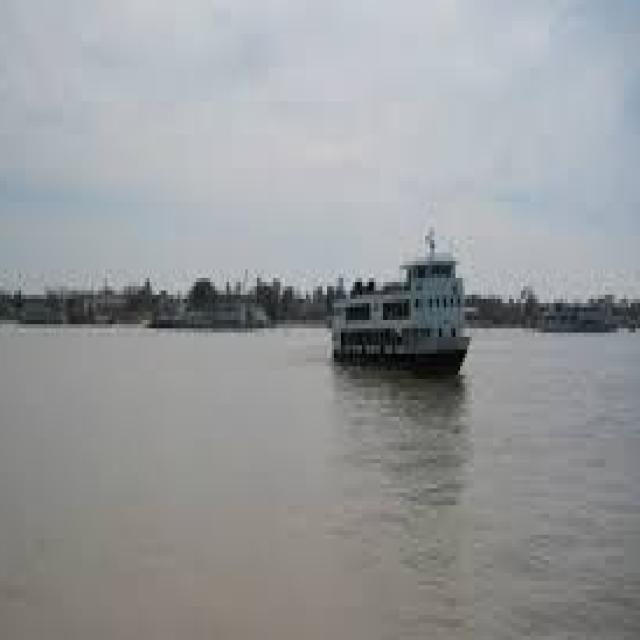passenger ship: (333, 236, 473, 383)
